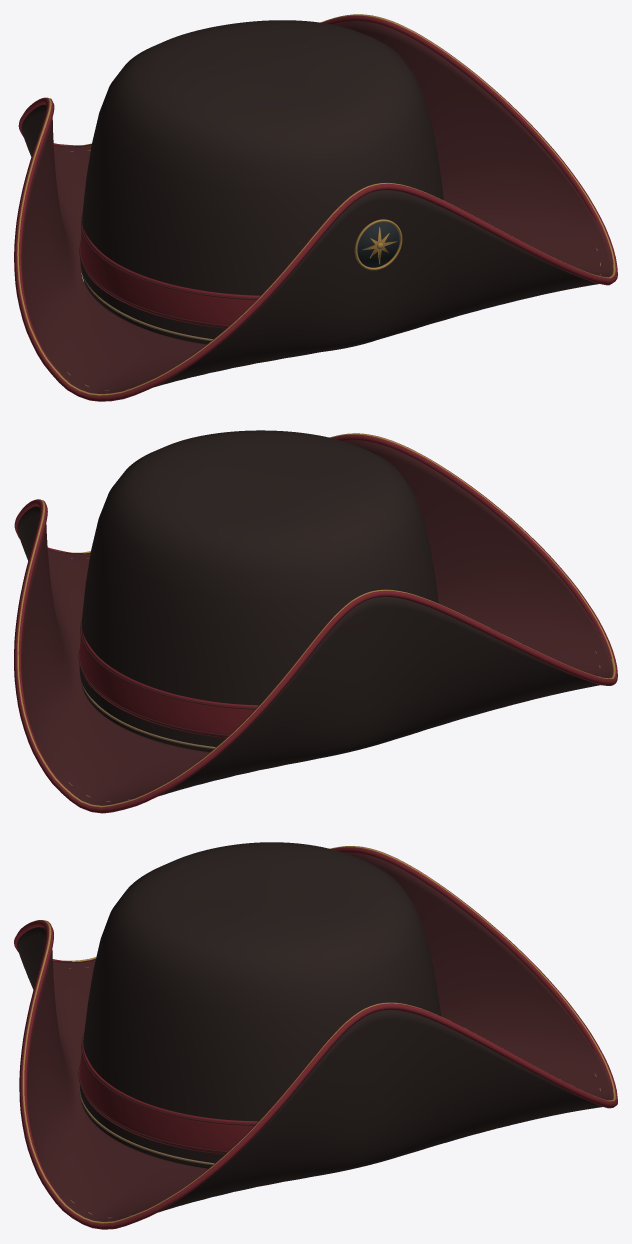
File: blackbeard_tricorn_accessory.glb
3 views of the same model, one above another, from view 1: azimuth 30°, elevation 25°; view 2: azimuth 150°, elevation 25°; view 3: azimuth 270°, elevation 25° (orthographic).
Visible parts, largest first — view 1: 02 Shaped leather crown, 01 Continuous three-fold brim, 03 Deep red edge welt, 06 Crimson crown ribbon, 04 Brass outer bound edge, 09 Compass dark roundel; view 2: 01 Continuous three-fold brim, 02 Shaped leather crown, 03 Deep red edge welt, 06 Crimson crown ribbon, 04 Brass outer bound edge; view 3: 02 Shaped leather crown, 01 Continuous three-fold brim, 03 Deep red edge welt, 06 Crimson crown ribbon, 04 Brass outer bound edge.
Part boxes in pixels (x1,y1,x2,y2): 02 Shaped leather crown: (80,20,443,351); 01 Continuous three-fold brim: (21,21,612,393); 03 Deep red edge welt: (14,15,617,401); 06 Crimson crown ribbon: (80,227,259,328); 04 Brass outer bound edge: (17,14,615,395); 09 Compass dark roundel: (357,222,399,267); 01 Continuous three-fold brim: (17,440,612,805); 02 Shaped leather crown: (79,430,438,751); 03 Deep red edge welt: (14,434,617,813); 06 Crimson crown ribbon: (79,629,258,737); 04 Brass outer bound edge: (17,433,615,807); 02 Shaped leather crown: (80,842,441,1168); 01 Continuous three-fold brim: (17,853,613,1221); 03 Deep red edge welt: (14,847,617,1229); 06 Crimson crown ribbon: (79,1038,257,1154); 04 Brass outer bound edge: (22,846,615,1223).
Size of the model in its own units: 0.4266 by 0.155 by 0.3961.
